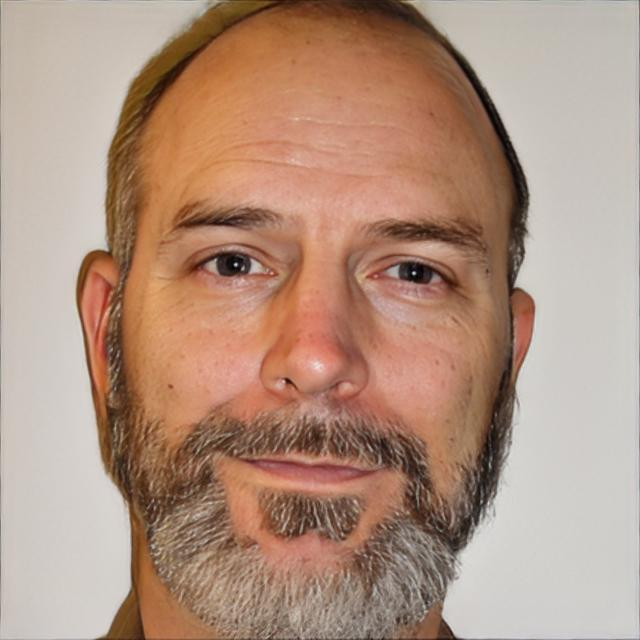content: (125, 0, 516, 640)
